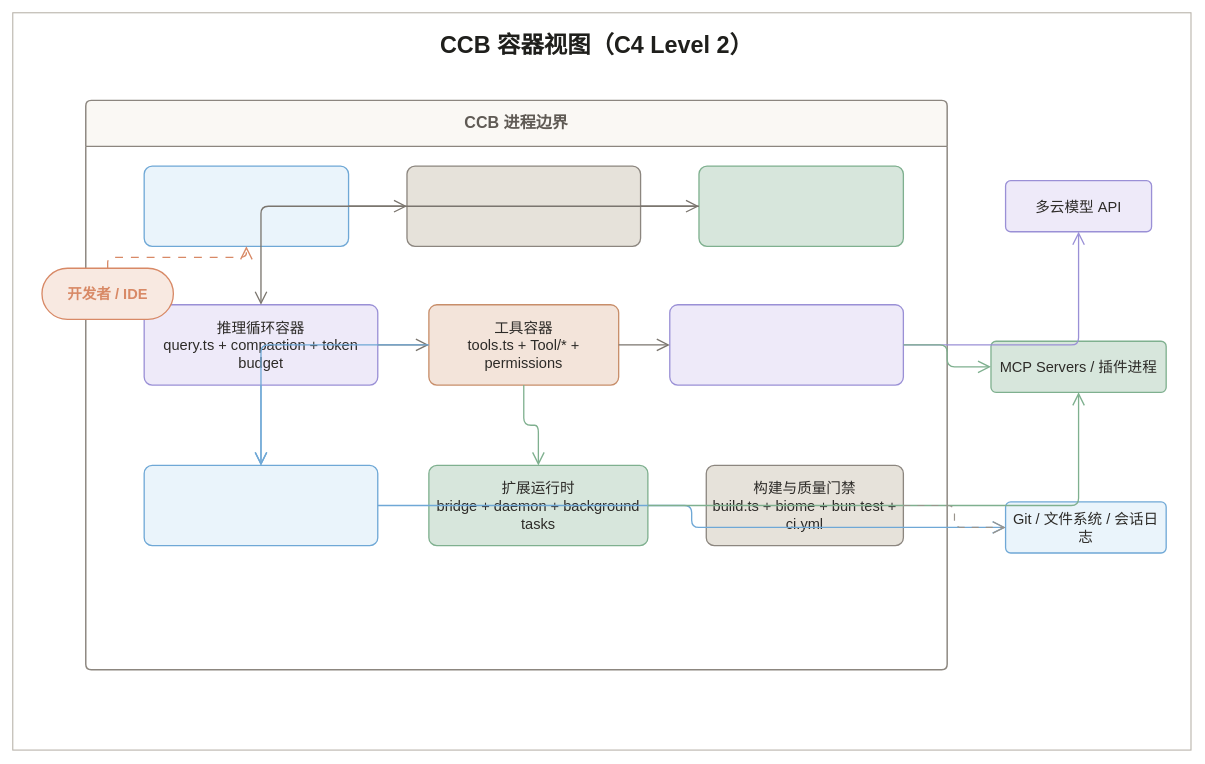
The diagram is 1205 pixels wide and 764 high, and some of its shapes have lost their labels. Here are the shapes that lost their labels. From the top down, the centre of each, then its label:
(x=246, y=206): 启动与命令入口 src/entrypoints/cli.tsx src/main.tsx
(x=523, y=206): 终端交互容器 screens/REPL.tsx + components + hooks
(x=801, y=206): 会话引擎容器 QueryEngine.ts + state store
(x=786, y=344): 集成服务容器 services/api + services/mcp + auth
(x=260, y=505): 上下文与本地资源 context.ts + utils/* + memdir
